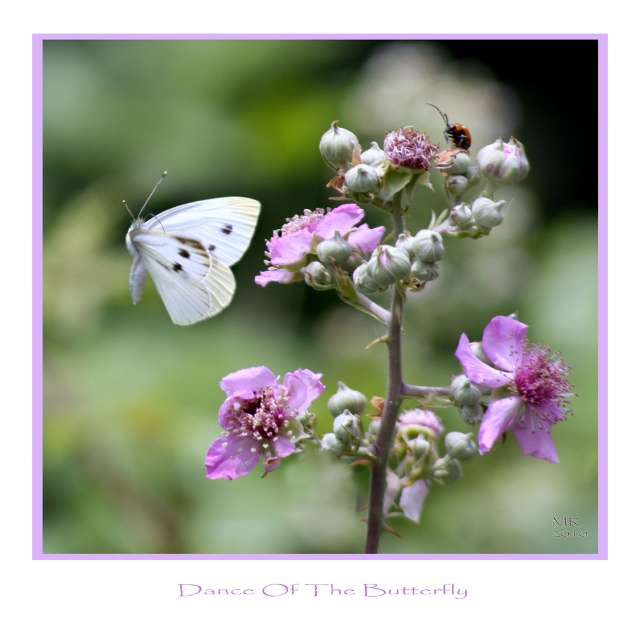Butterfly: (117, 172, 274, 330)
